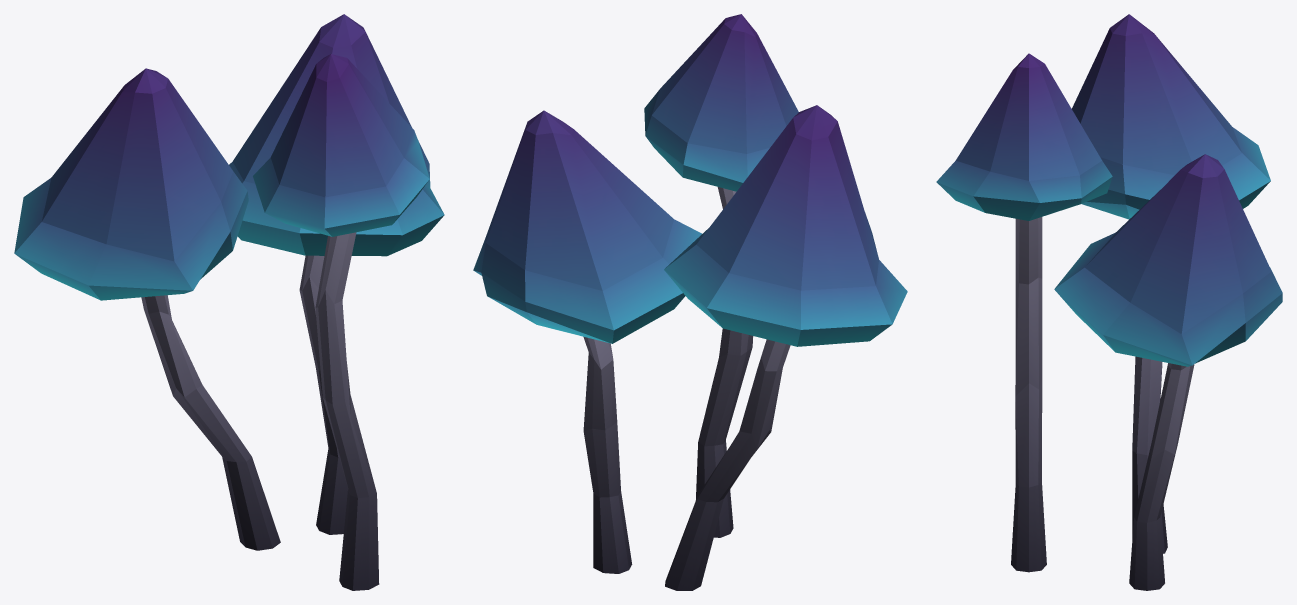
The model's file is Nightcap.fbx.
The picture shows the model from 3 angles, left to right: view 1: azimuth 30°, elevation 25°; view 2: azimuth 150°, elevation 25°; view 3: azimuth 270°, elevation 25°; orthographic projection. The views are drawn at different scales.
Parts seen in each view (by area): view 1: Cube.005; view 2: Cube.005; view 3: Cube.005.
Part boxes in pixels (<box>): Cube.005: <box>14,14,444,590</box>; Cube.005: <box>473,14,907,590</box>; Cube.005: <box>936,14,1282,590</box>.
Bounding box in the file's own units: 343 × 415 × 261.
